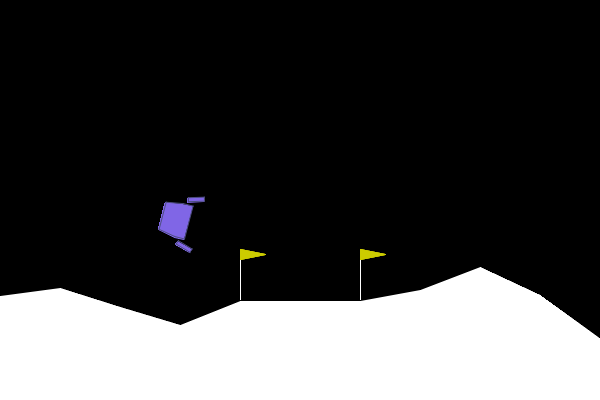lander: (153, 187, 206, 255)
